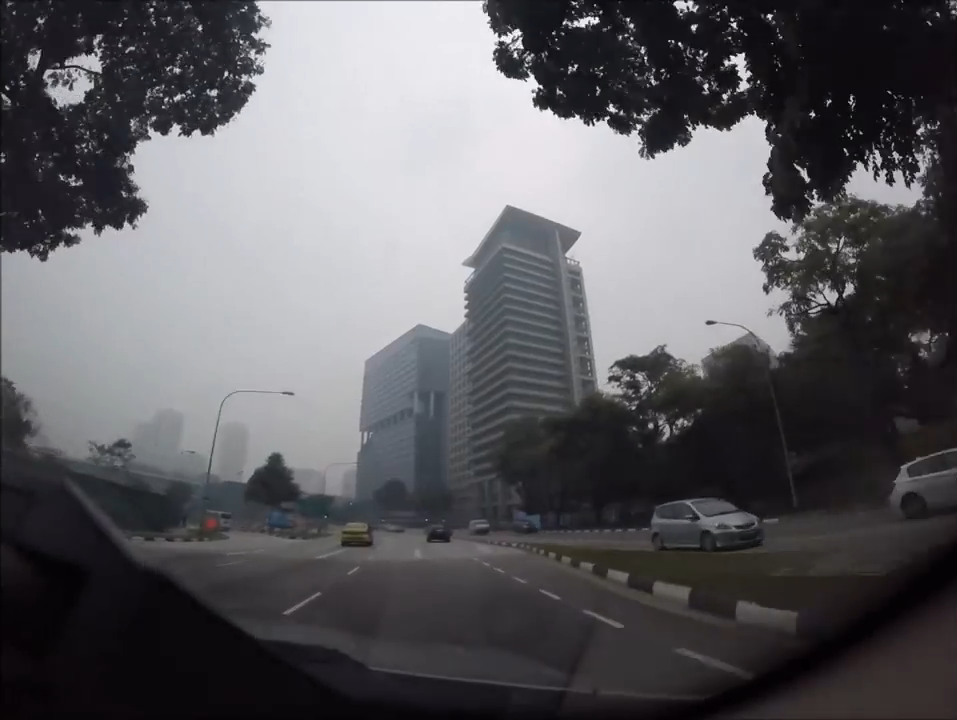bus: (203, 507, 233, 531)
car: (647, 495, 763, 552), (882, 448, 957, 522), (340, 521, 374, 546), (424, 522, 451, 542), (511, 518, 538, 533), (467, 518, 490, 534)
